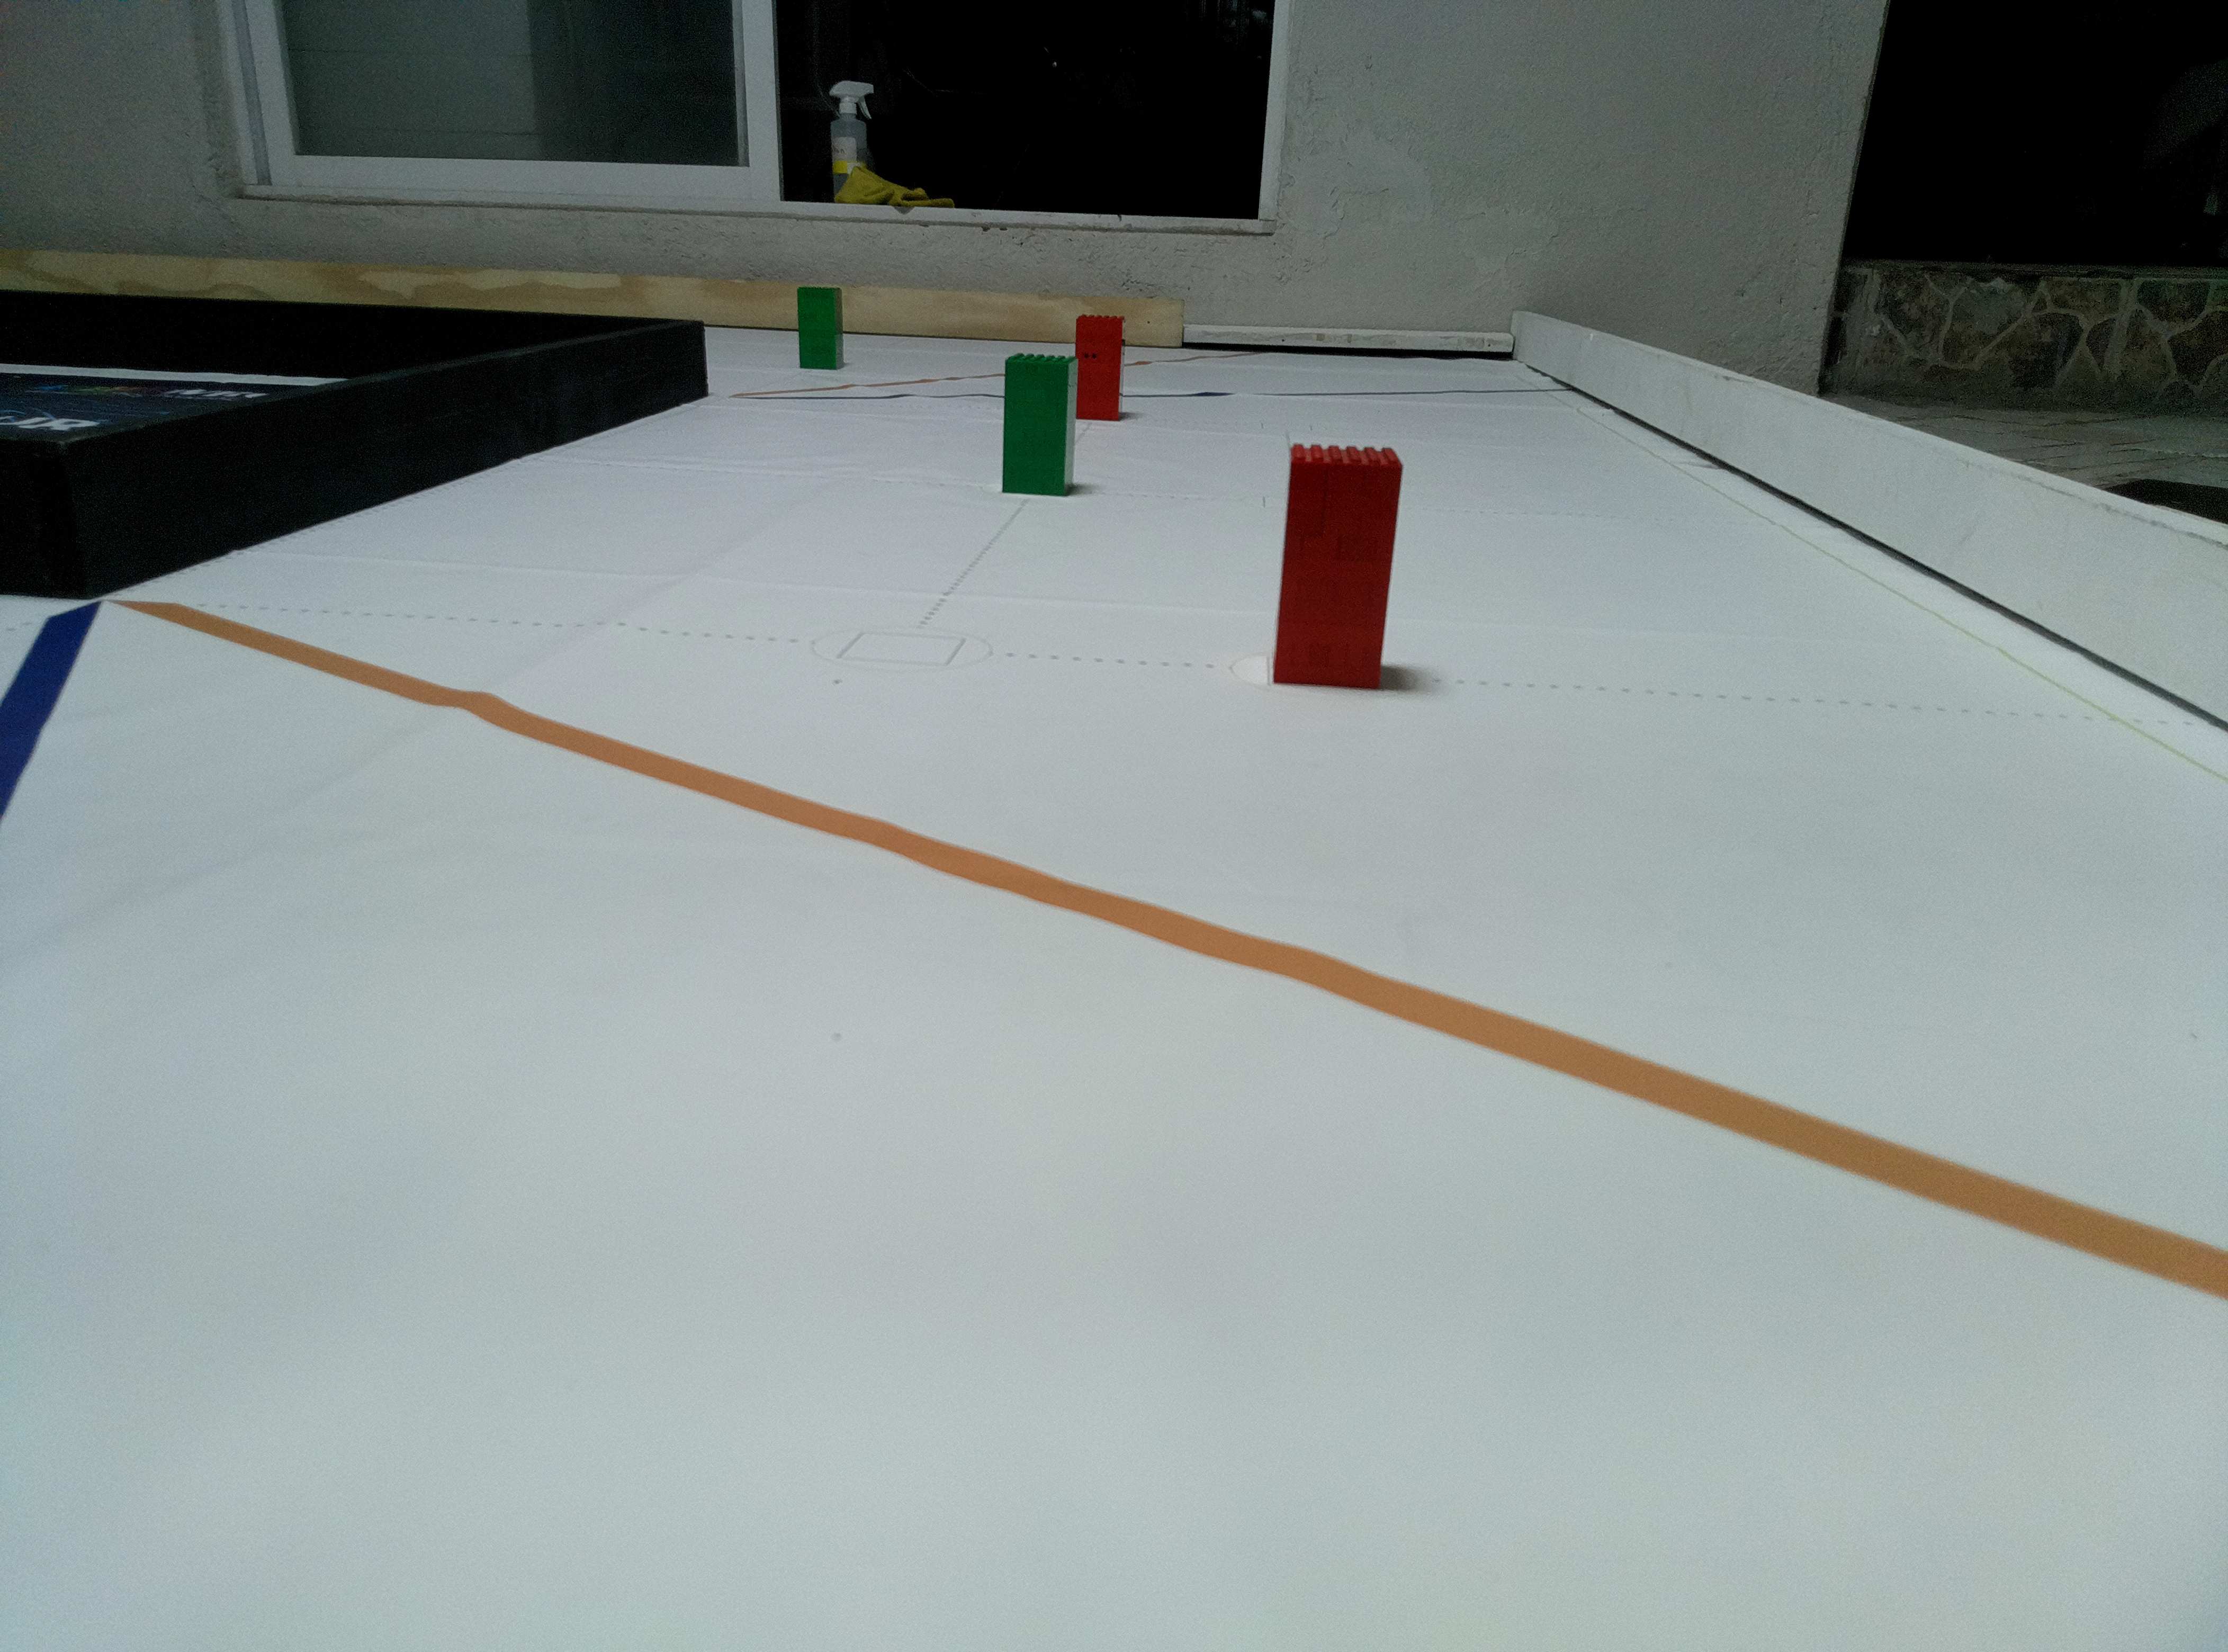greenbox: (1003, 352, 1078, 496), (796, 286, 845, 370)
redbox: (1274, 441, 1402, 691), (1076, 312, 1123, 422)
